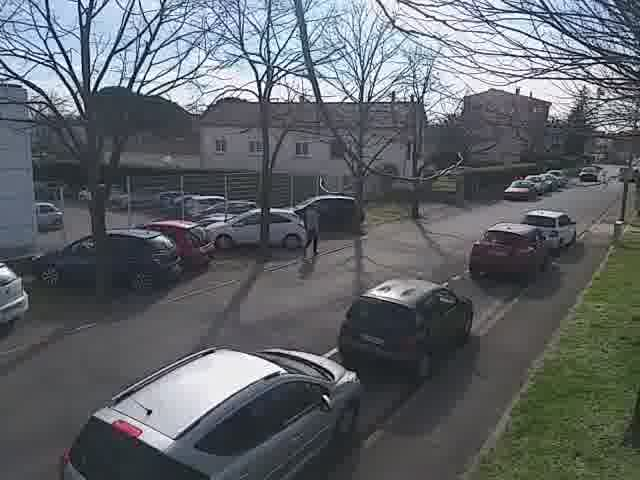persona: (294, 195, 327, 262)
